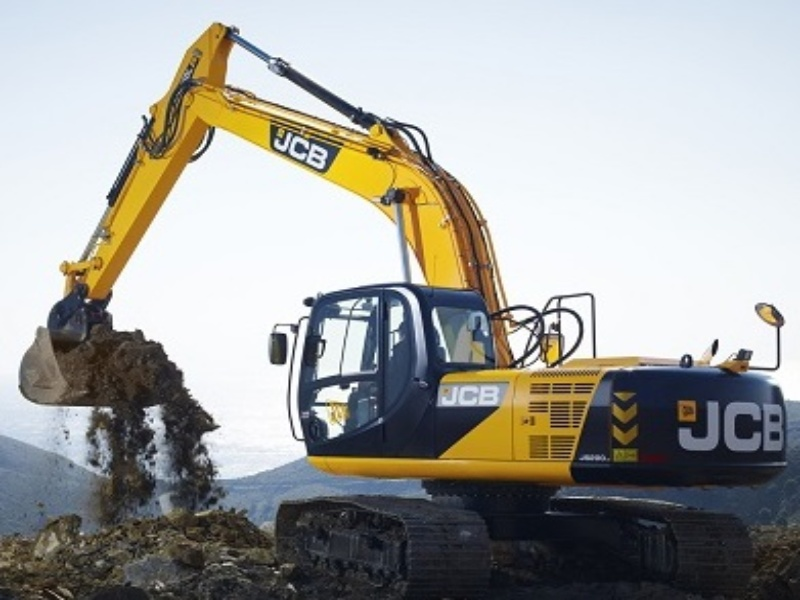wajueji: (245, 208, 800, 592)
